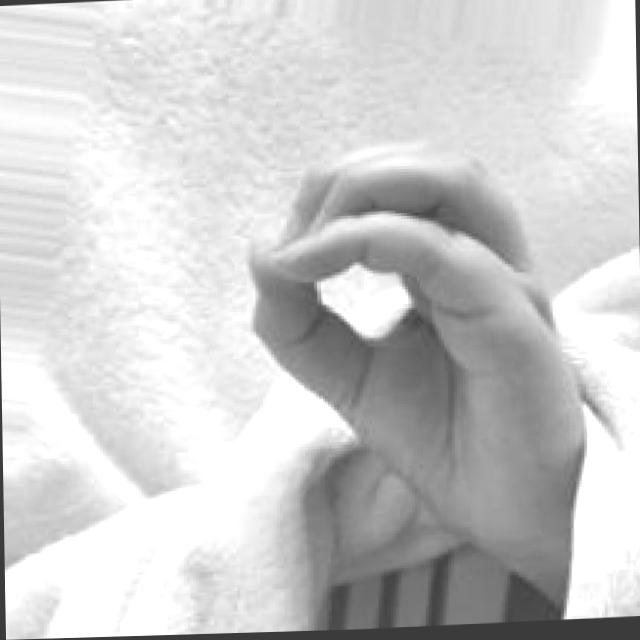O: (238, 126, 608, 616)
